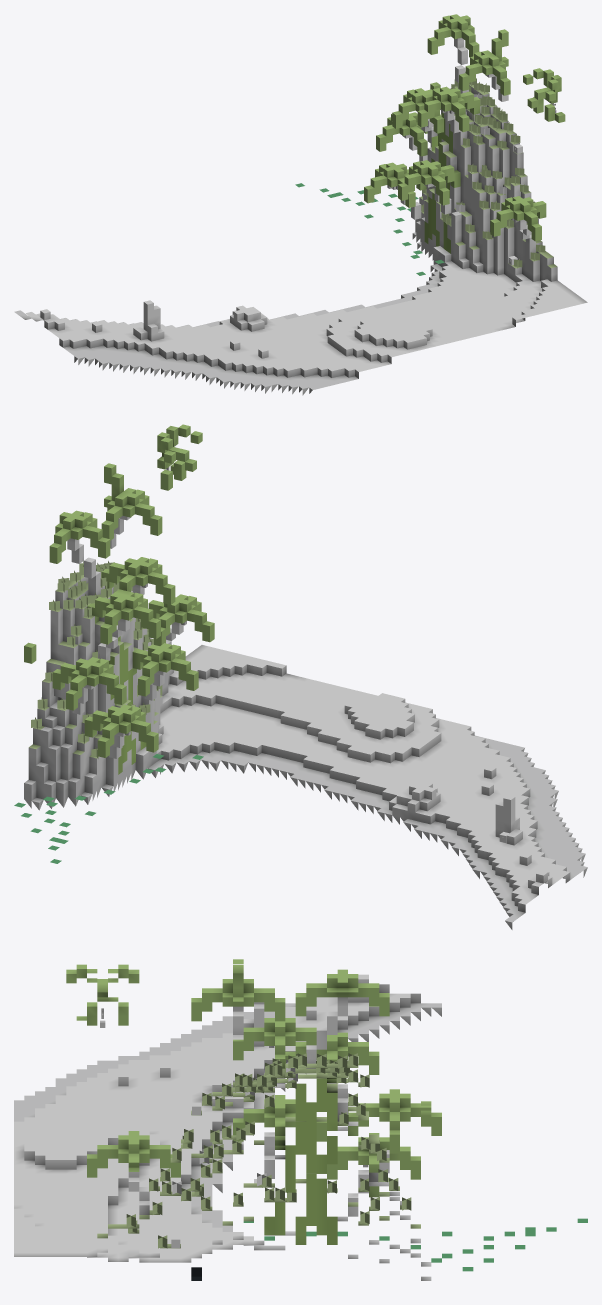
3 renders of one model, top to bottom at view 1: azimuth 30°, elevation 25°; view 2: azimuth 150°, elevation 25°; view 3: azimuth 270°, elevation 25°, orthographic. The views are drawn at different scales.
Visible parts, largest first — view 1: opaco, recorte; view 2: opaco, recorte; view 3: opaco, recorte.
Part boxes in pixels (x1,y1,x2,y2): opaco: (14, 37, 587, 395); recorte: (141, 14, 565, 328); opaco: (24, 516, 587, 929); recorte: (14, 424, 509, 863); opaco: (14, 974, 441, 1280); recorte: (66, 959, 587, 1271).
Bounding box in the file's own units: 64.2 × 35 × 55.
